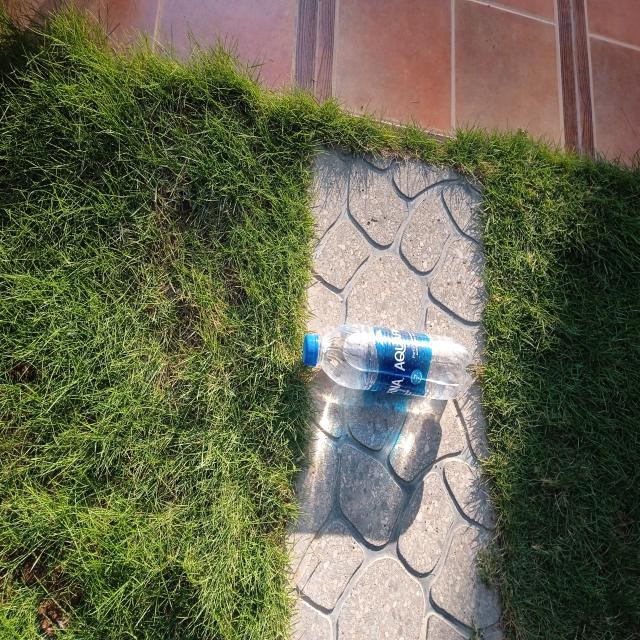Plastic: (304, 334, 472, 392)
